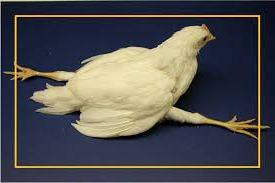AbNormal: (6, 23, 275, 142)
